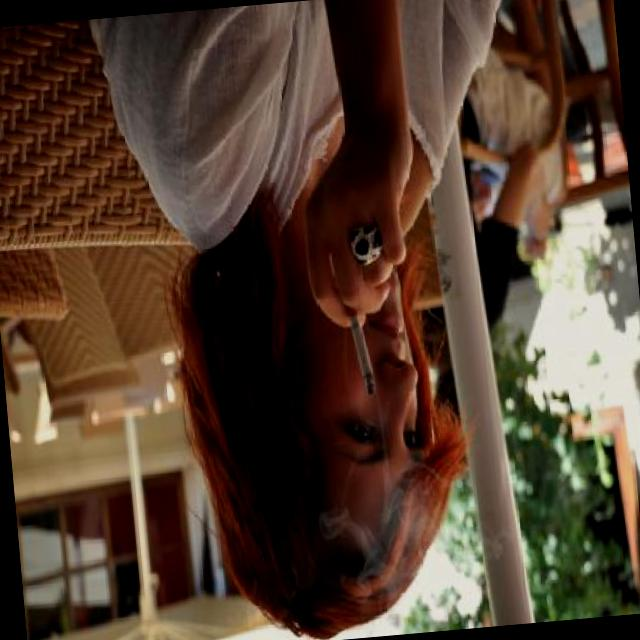cigarette: (339, 288, 382, 414)
